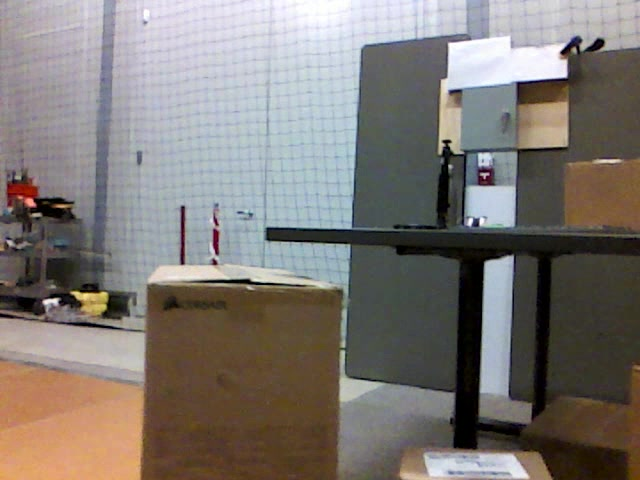box: (142, 265, 340, 480), (522, 394, 632, 475), (396, 445, 549, 480), (565, 159, 640, 227)
